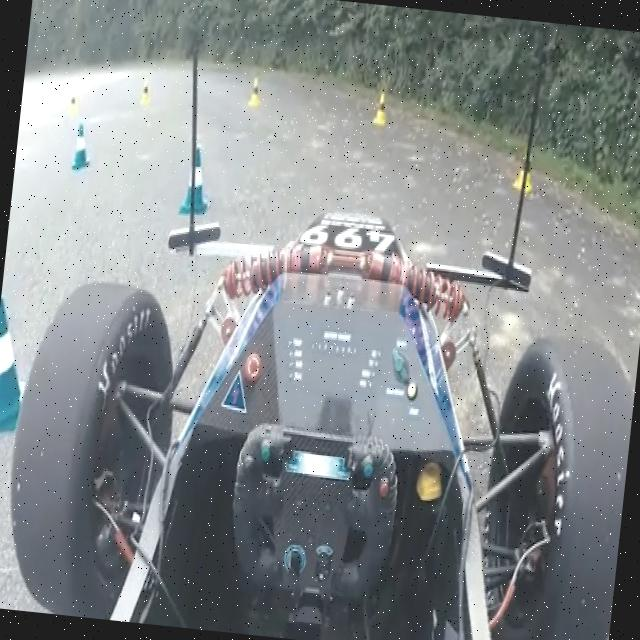blue_cone: (0, 292, 50, 448), (176, 137, 218, 224), (65, 120, 97, 177)
yellow_cone: (513, 145, 538, 197), (243, 72, 266, 112), (371, 88, 392, 130), (138, 77, 154, 109)
